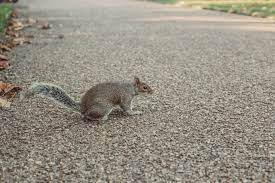squirrel: (28, 79, 153, 120)
